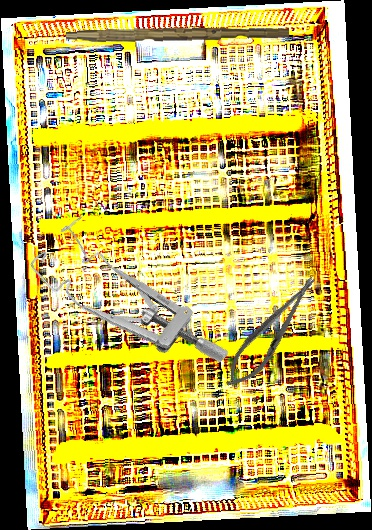Needle Holder: (216, 267, 328, 397)
Scalpel Handle: (65, 23, 290, 47)
Speculum: (26, 202, 231, 413)
